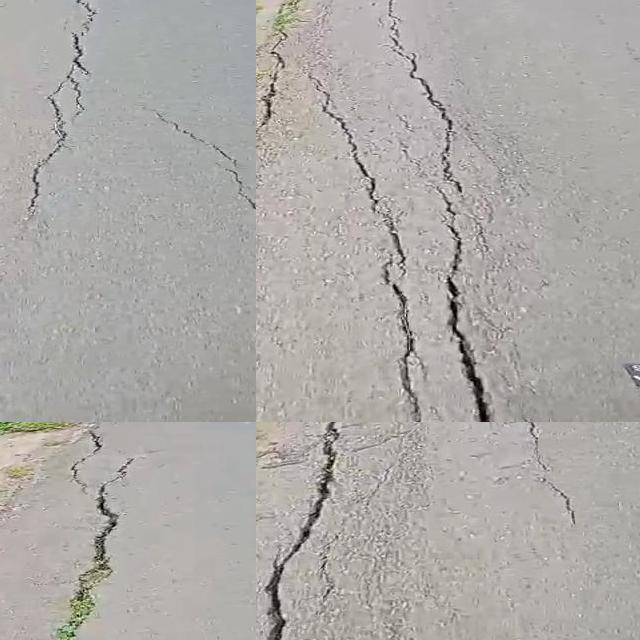Memanjang: (367, 0, 519, 422), (308, 77, 440, 422), (34, 442, 153, 640), (256, 422, 362, 640), (5, 0, 98, 223), (136, 101, 256, 241), (489, 422, 585, 528)
